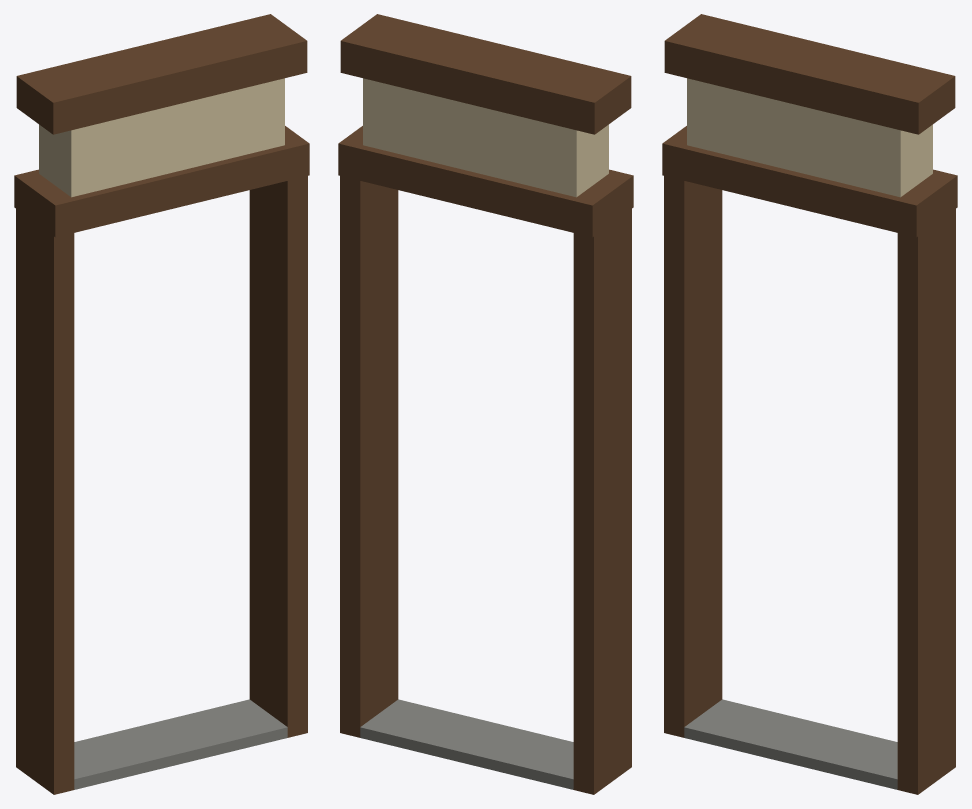
File: WallDoorway.fbx
The picture shows the model from 3 angles, left to right: view 1: azimuth 30°, elevation 25°; view 2: azimuth 150°, elevation 25°; view 3: azimuth 330°, elevation 25°; orthographic projection.
Visible parts, largest first — view 1: WallDoorway; view 2: WallDoorway; view 3: WallDoorway.
Boxes of the visible parts, <box> form: WallDoorway: <box>14,14,309,794</box>; WallDoorway: <box>338,14,633,794</box>; WallDoorway: <box>662,14,957,794</box>.
Bounding box in the file's own units: 1 × 2.6 × 0.28.
